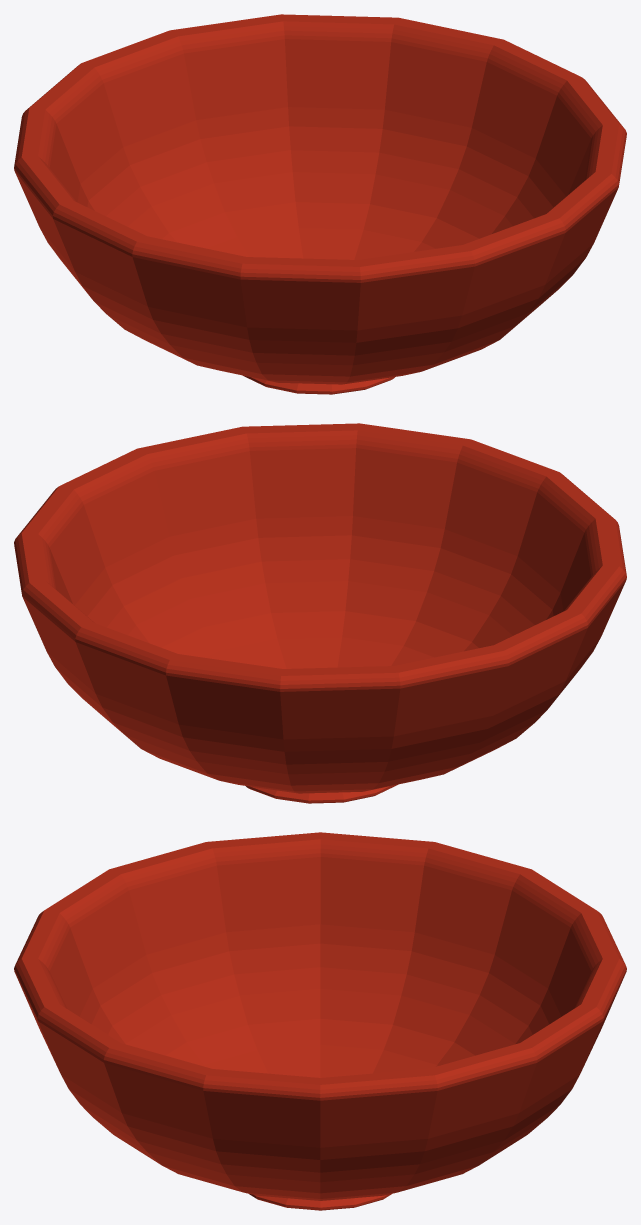
File: fruit bowl 2 textured.fbx
The picture shows the model from 3 angles, top to bottom: view 1: azimuth 30°, elevation 25°; view 2: azimuth 150°, elevation 25°; view 3: azimuth 270°, elevation 25°; orthographic projection.
Parts seen in each view (by area): view 1: Bowl 2 electric boogaloo; view 2: Bowl 2 electric boogaloo; view 3: Bowl 2 electric boogaloo.
Boxes of the visible parts, x1,y1,x2,y2 form: Bowl 2 electric boogaloo: (14, 14, 626, 394); Bowl 2 electric boogaloo: (14, 423, 626, 803); Bowl 2 electric boogaloo: (14, 832, 626, 1210).
Bounding box in the file's own units: 790 × 305 × 790.
